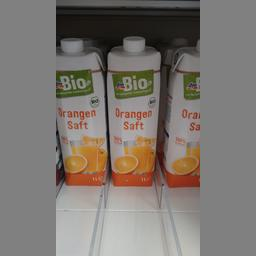juice: (106, 36, 161, 186), (54, 38, 108, 188), (164, 42, 198, 188)
